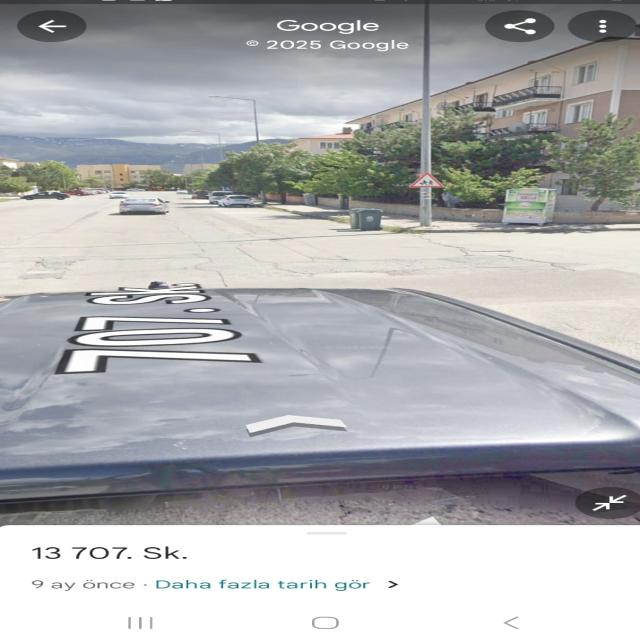okul_gecidi: (408, 172, 445, 188)
